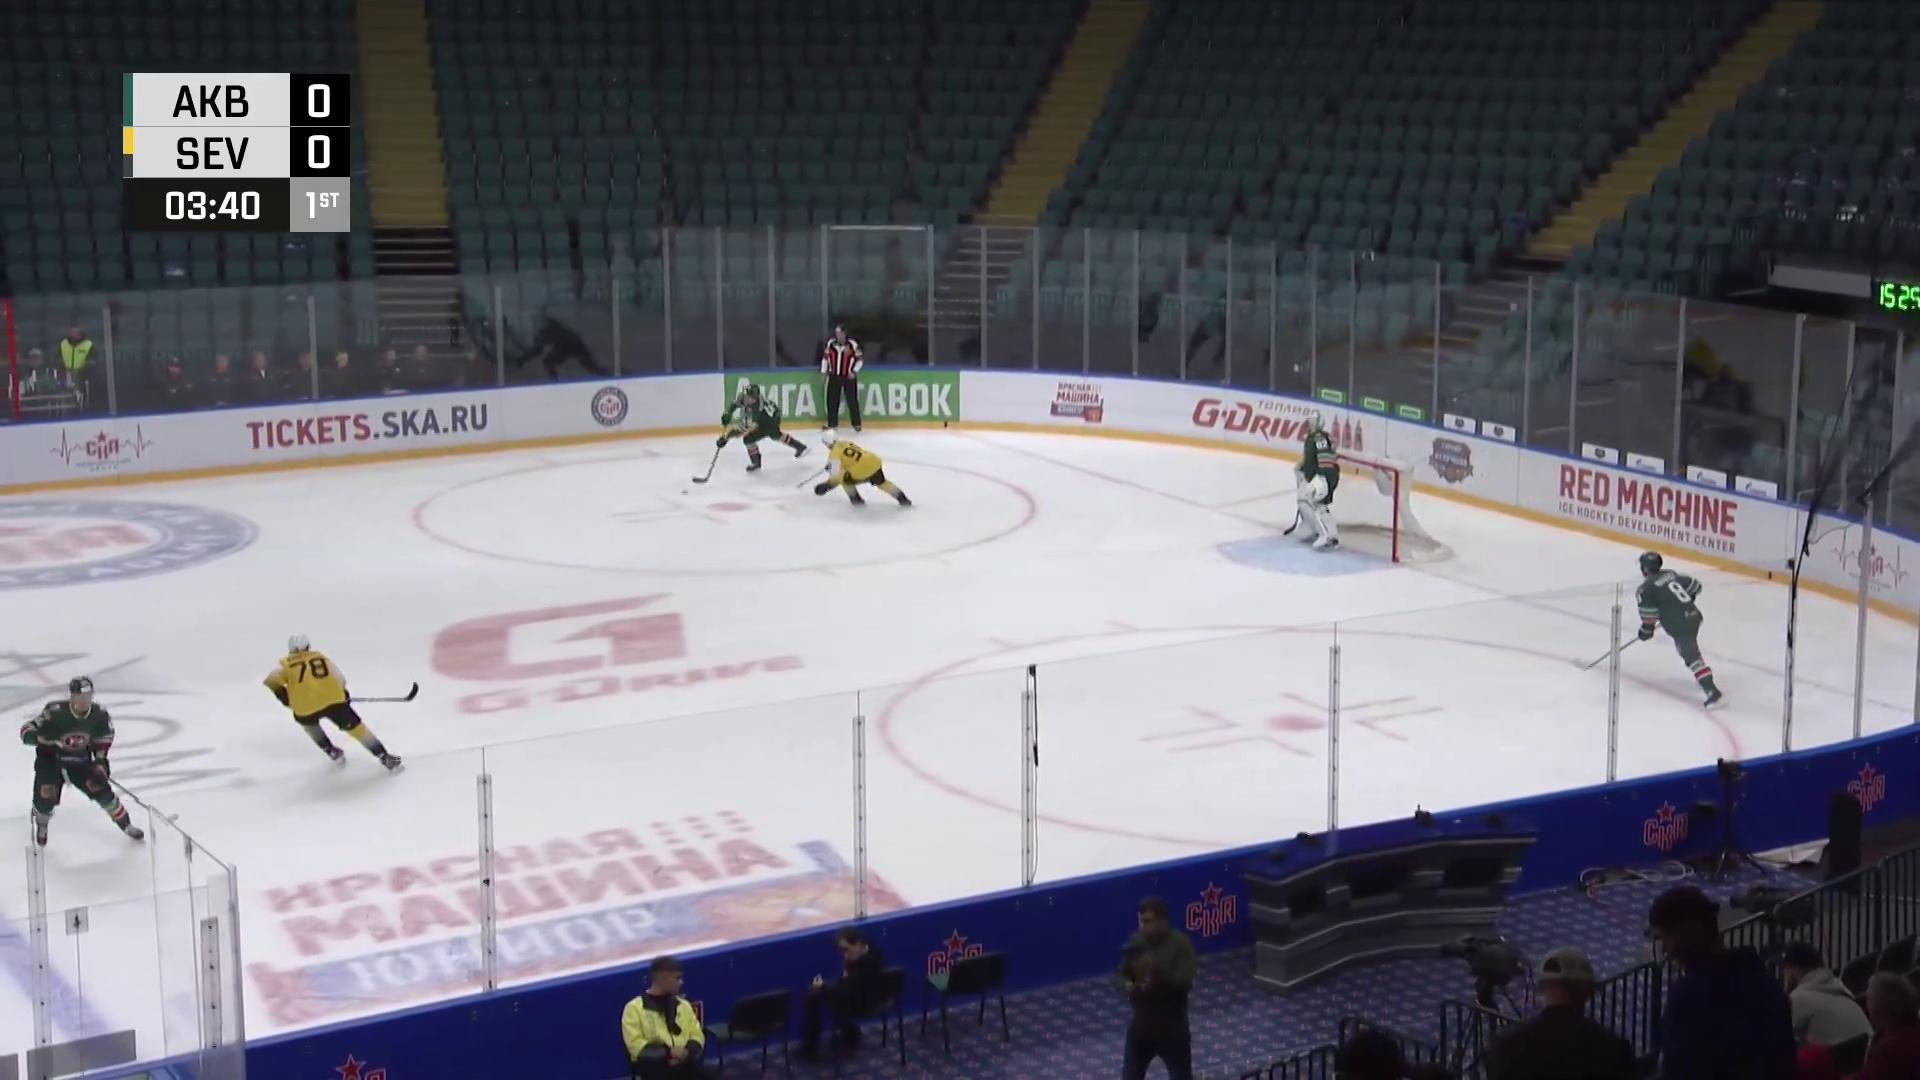ball: (680, 489, 688, 495)
